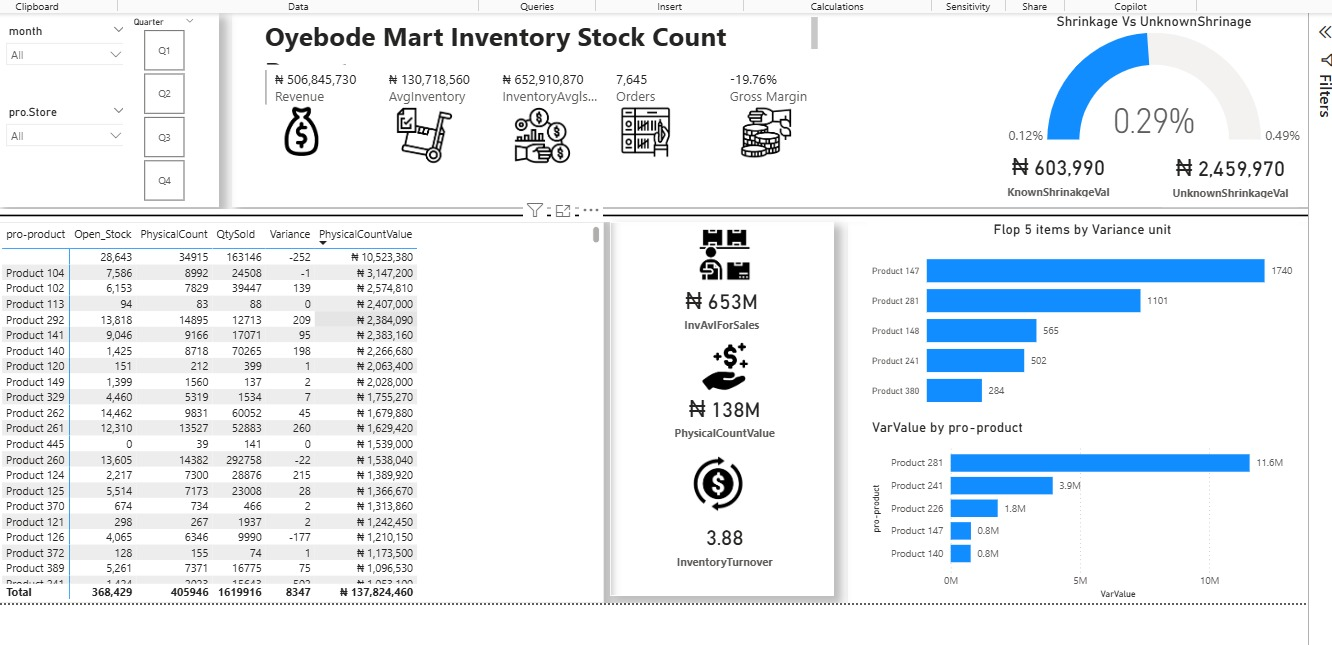

What the dashboard file says about the page in this screenshot:
{"tool":"powerbi","page":{"name":"Page 2","canvas":[1600,720],"ordinal":0},"visuals":[{"type":"shape","box":[1038,255.1,562,465.6],"z":0},{"type":"shape","box":[0,246.2,739.9,474.5],"z":1000},{"type":"shape","box":[286.3,0,1313.7,237.1],"z":2000},{"type":"shape","box":[0,0,269.9,237.3],"z":3000},{"type":"multiRowCard","fields":{"Values":["KPI.Revenue","KPI.AvgInventory","KPI.InventoryAvglsales","KPI.Orders","KPI.Gross Margin"]},"box":[321.4,65,716.6,156.3],"z":5000},{"type":"shape","box":[0,238.9,1600,15.8],"z":6000},{"type":"slicer","fields":{"Values":["DateTable.month"]},"box":[0,0,167.2,56.7],"z":7000},{"type":"slicer","fields":{"Values":["Store.Store"]},"box":[1.1,92.7,152,73.3],"z":8000},{"type":"textbox","box":[321.2,0,716.6,71.2],"z":9000},{"type":"gauge","title":"Shrinkage Vs UnknownShrinage","fields":{"MinValue":["KPI.%knownShrinkage"],"MaxValue":["KPI.%unknownShrinkage"],"Y":["KPI.%inventoryLevel"]},"box":[1223.4,0,376.6,164.6],"z":10000},{"type":"card","fields":{"Values":["KPI.Known Shrinakge Value"]},"box":[1211,164.6,166.1,71.2],"z":11000},{"type":"card","fields":{"Values":["KPI.UnknownShrinkageVal"]},"box":[1422.1,166.1,166.1,71.2],"z":12000},{"type":"image","box":[298.1,107.1,145.3,74.1],"z":13000},{"type":"image","box":[458.4,107.1,126.5,84.3],"z":14000},{"type":"image","box":[602.4,107.1,126.5,84.3],"z":15000},{"type":"image","box":[735.9,107.1,108.9,75.5],"z":16000},{"type":"slicer","fields":{"Values":["DateTable.Quarter"]},"box":[152.7,0,99.4,235.8],"z":17000},{"type":"pivotTable","fields":{"Values":["KPI.Open_Stock","KPI.PhysicalCount","KPI.QtySold","KPI.Variance","KPI.PhysicalCountValue"],"Rows":["Product.Items"]},"box":[0,255.1,739.9,465.6],"z":18000},{"type":"shape","box":[747.4,255.1,272.8,456.7],"z":19000},{"type":"image","box":[848.7,252.1,77.1,87.5],"z":20000},{"type":"group","id":"g1","title":"Group 1","box":[795.6,327.7,176.5,362.2],"z":21000},{"type":"card","fields":{"Values":["KPI.InvAvlForSales"]},"box":[795.6,327.7,176.5,72.7],"z":21000,"group":"g1"},{"type":"clusteredBarChart","title":"Flop 5 items by Variance unit","fields":{"Y":["KPI.Variance"],"Category":["Product.Items"]},"box":[1061.7,253.6,526.4,241.7],"z":22000},{"type":"card","fields":{"Values":["KPI.InventoryTurnover"]},"box":[803,615.8,169,74.1],"z":22000,"group":"g1"},{"type":"card","fields":{"Values":["KPI.PhysicalCountValue"]},"box":[803,458.2,169,75.6],"z":23000,"group":"g1"},{"type":"image","box":[853.1,392.9,71.2,78.6],"z":24000,"group":"g1"},{"type":"clusteredBarChart","fields":{"Y":["KPI.VarValue"],"Category":["Store.Store"]},"box":[1062.6,495.3,526.9,224.8],"z":24000},{"type":"image","box":[897.5,107.1,80.8,77.3],"z":25000},{"type":"image","box":[838.3,533.8,83,81.6],"z":25000,"group":"g1"}]}

Visuals, with their boxes on the page's 1600x720 design canvas (x1, y1, x2, y2). These are canvas units, not pixel positions in the 1332x645 screenshot, which may show the page scaled, cropped or inside an application window:
shape: Rect(1038, 255, 1600, 721)
shape: Rect(0, 246, 740, 721)
shape: Rect(286, 0, 1600, 237)
shape: Rect(0, 0, 270, 237)
multiRowCard - KPI.Revenue x KPI.AvgInventory: Rect(321, 65, 1038, 221)
shape: Rect(0, 239, 1600, 255)
slicer - DateTable.month: Rect(0, 0, 167, 57)
slicer - Store.Store: Rect(1, 93, 153, 166)
textbox: Rect(321, 0, 1038, 71)
"Shrinkage Vs UnknownShrinage" gauge: Rect(1223, 0, 1600, 165)
card - KPI.Known Shrinakge Value: Rect(1211, 165, 1377, 236)
card - KPI.UnknownShrinkageVal: Rect(1422, 166, 1588, 237)
image: Rect(298, 107, 443, 181)
image: Rect(458, 107, 585, 191)
image: Rect(602, 107, 729, 191)
image: Rect(736, 107, 845, 183)
slicer - DateTable.Quarter: Rect(153, 0, 252, 236)
pivotTable - KPI.Open_Stock x KPI.PhysicalCount: Rect(0, 255, 740, 721)
shape: Rect(747, 255, 1020, 712)
image: Rect(849, 252, 926, 340)
"Group 1" group: Rect(796, 328, 972, 690)
card - KPI.InvAvlForSales: Rect(796, 328, 972, 400)
"Flop 5 items by Variance unit" clusteredBarChart: Rect(1062, 254, 1588, 495)
card - KPI.InventoryTurnover: Rect(803, 616, 972, 690)
card - KPI.PhysicalCountValue: Rect(803, 458, 972, 534)
image: Rect(853, 393, 924, 472)
clusteredBarChart - KPI.VarValue x Store.Store: Rect(1063, 495, 1590, 720)
image: Rect(898, 107, 978, 184)
image: Rect(838, 534, 921, 615)
